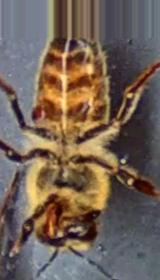varroa_mite: (32, 99, 58, 126)
